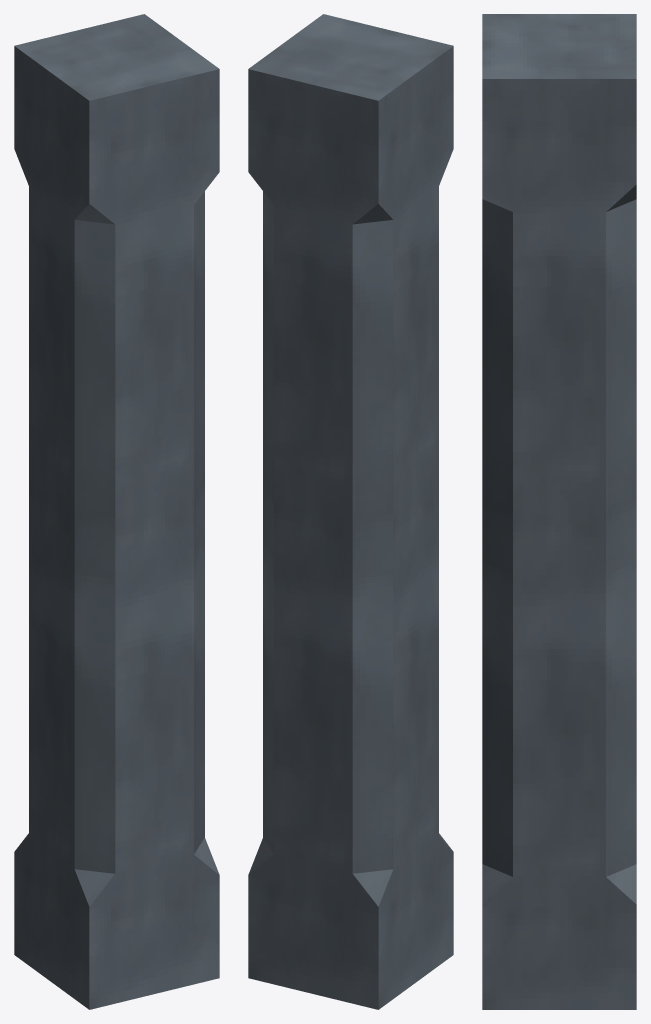
Rendered from pillar_quad.FBX.
The picture shows the model from 3 angles, left to right: view 1: azimuth 30°, elevation 25°; view 2: azimuth 150°, elevation 25°; view 3: azimuth 270°, elevation 25°; orthographic projection. The views are drawn at different scales.
Parts seen in each view (by area): view 1: pillar_quad; view 2: pillar_quad; view 3: pillar_quad.
Part boxes in pixels (box(x1,y1,x2,y2)): pillar_quad: box(14, 14, 219, 1009); pillar_quad: box(248, 14, 453, 1009); pillar_quad: box(482, 14, 636, 1009).
Bounding box in the file's own units: 60 × 400 × 60.
